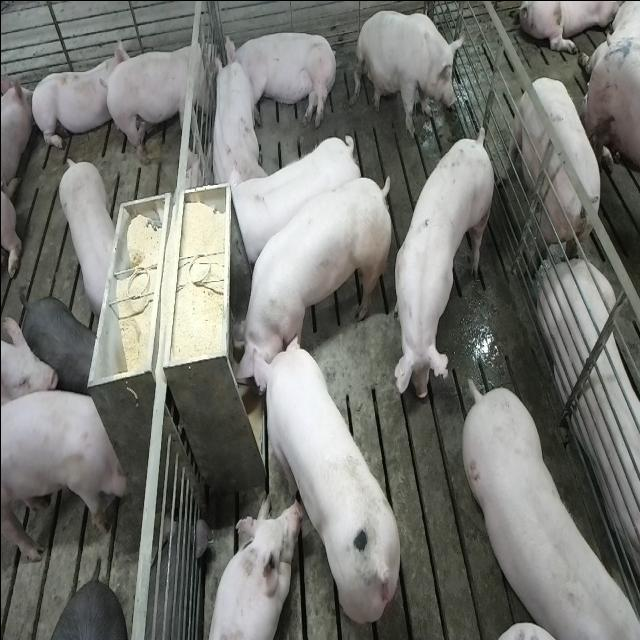Feeding: (245, 332, 402, 625), (224, 172, 388, 396)
Lateral_lying: (222, 28, 338, 128)
Sitting: (354, 8, 466, 138)
Standing: (458, 382, 634, 640), (394, 128, 496, 414), (1, 384, 129, 562), (508, 74, 608, 280), (230, 128, 360, 262), (102, 31, 218, 168), (53, 152, 116, 316)
Sternal_lying: (540, 255, 640, 601), (203, 494, 297, 640), (27, 34, 124, 156), (207, 50, 263, 188)
